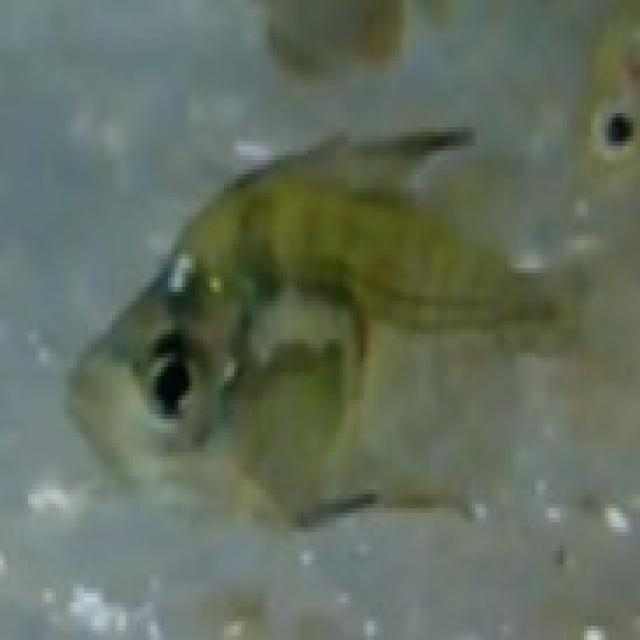Glass-Perchlet: (22, 59, 584, 596)
